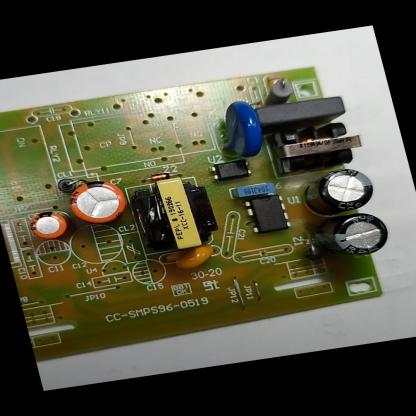Cap1: (64, 177, 130, 226)
Cap2: (28, 210, 70, 241)
Cap3: (296, 164, 380, 219)
Cap4: (312, 209, 394, 261)
MOSFET: (243, 194, 294, 236)
Mov: (209, 98, 268, 161)
Resistor: (257, 77, 295, 106)
Transformer: (129, 172, 222, 255), (267, 116, 367, 173)
